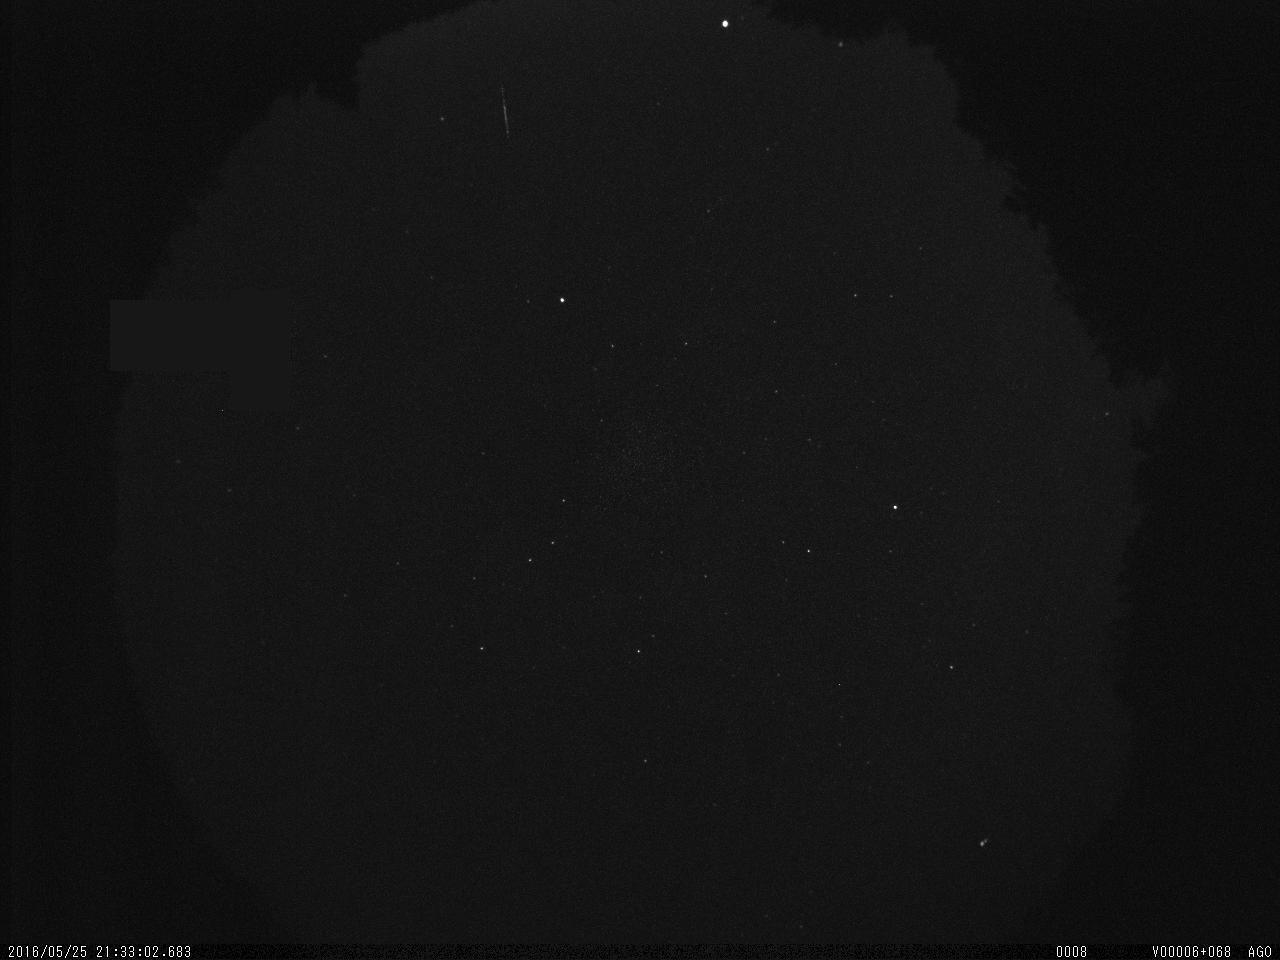meteor: (498, 78, 515, 141)
